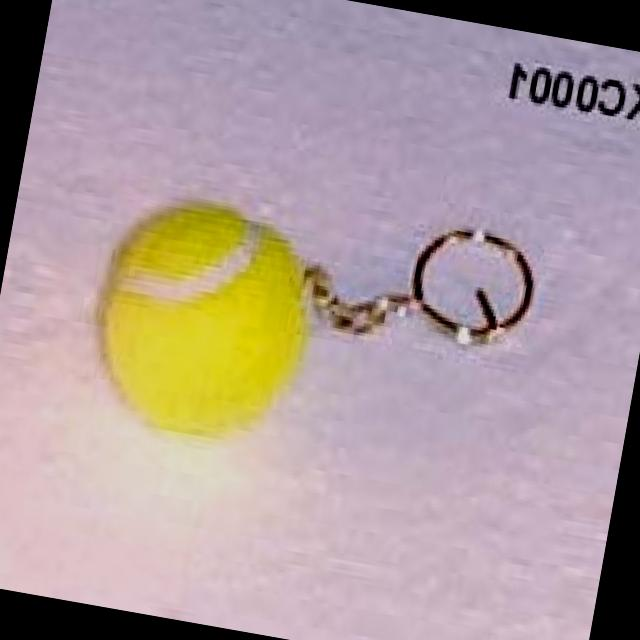Tennis Ball: (93, 199, 313, 447)
